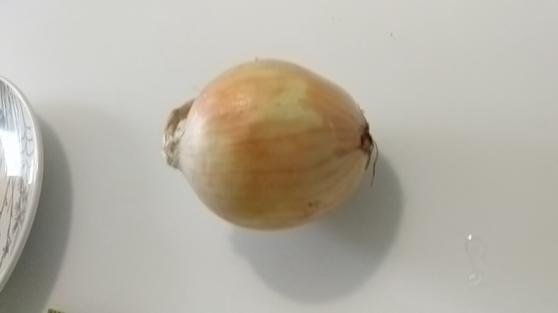onion: (161, 55, 376, 235)
